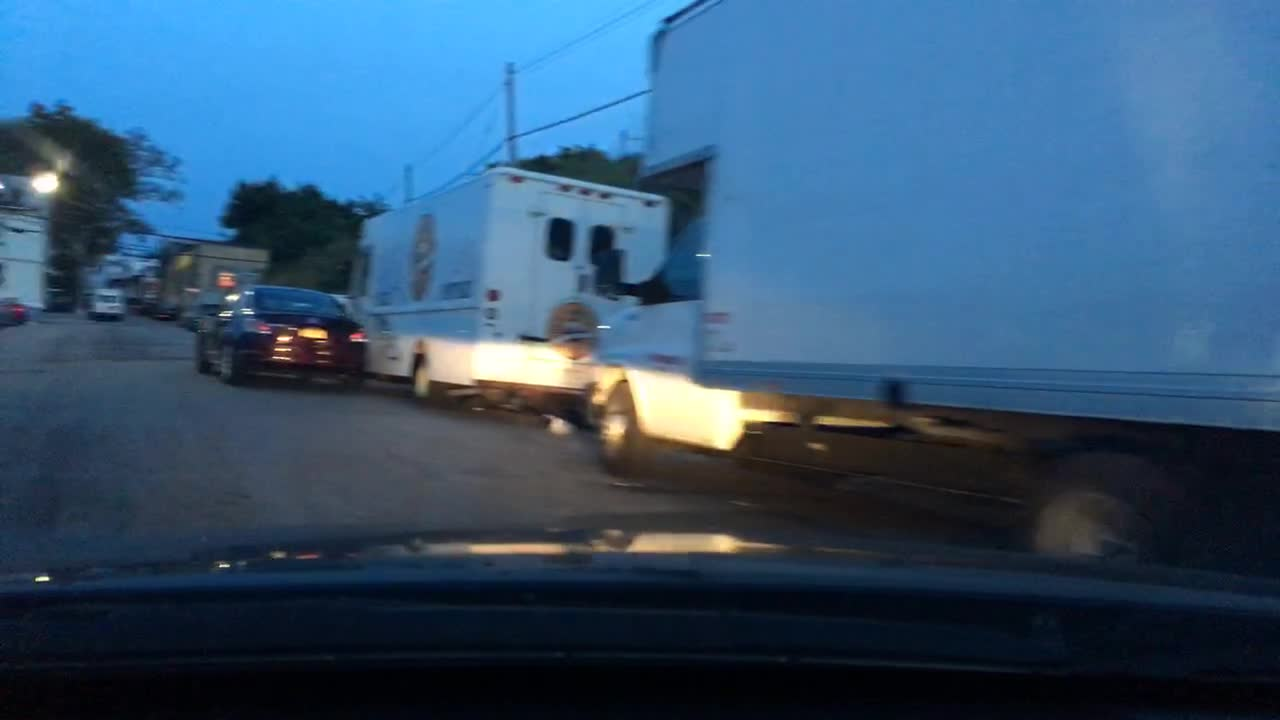car: (346, 168, 675, 401), (192, 290, 368, 391), (91, 251, 160, 313), (87, 286, 125, 322)
traffic sign: (114, 232, 184, 251)
truck: (585, 0, 1279, 565), (152, 242, 271, 323), (0, 207, 50, 330)
